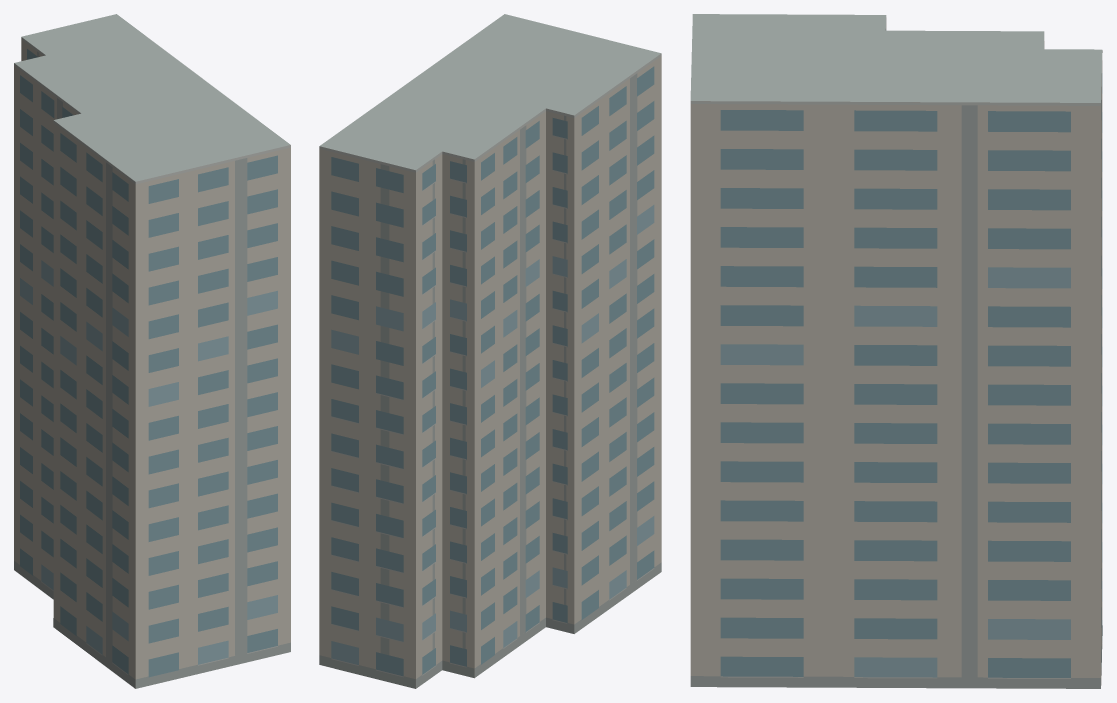
Rendered from residential-47544b20-6f91-4b8a-bf08-d471d5240fae.glb.
The picture shows the model from 3 angles, left to right: view 1: azimuth 30°, elevation 25°; view 2: azimuth 150°, elevation 25°; view 3: azimuth 270°, elevation 25°; orthographic projection. The views are drawn at different scales.
Parts seen in each view (by area): view 1: residential-47544b20-6f91-4b8a-bf08-d471d5240fae.tmp; view 2: residential-47544b20-6f91-4b8a-bf08-d471d5240fae.tmp; view 3: residential-47544b20-6f91-4b8a-bf08-d471d5240fae.tmp.
Boxes of the visible parts, x1,y1,x2,y2 form: residential-47544b20-6f91-4b8a-bf08-d471d5240fae.tmp: (14, 14, 290, 688); residential-47544b20-6f91-4b8a-bf08-d471d5240fae.tmp: (319, 14, 661, 688); residential-47544b20-6f91-4b8a-bf08-d471d5240fae.tmp: (690, 14, 1102, 688).
Bounding box in the file's own units: 15.65 × 48 × 30.59.
